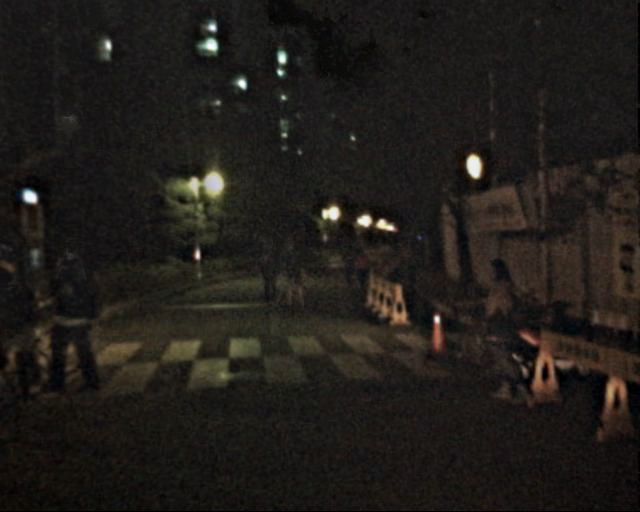person: (466, 253, 528, 404), (47, 241, 108, 390), (275, 238, 303, 307), (251, 238, 279, 306), (334, 237, 357, 292), (348, 239, 369, 290)
